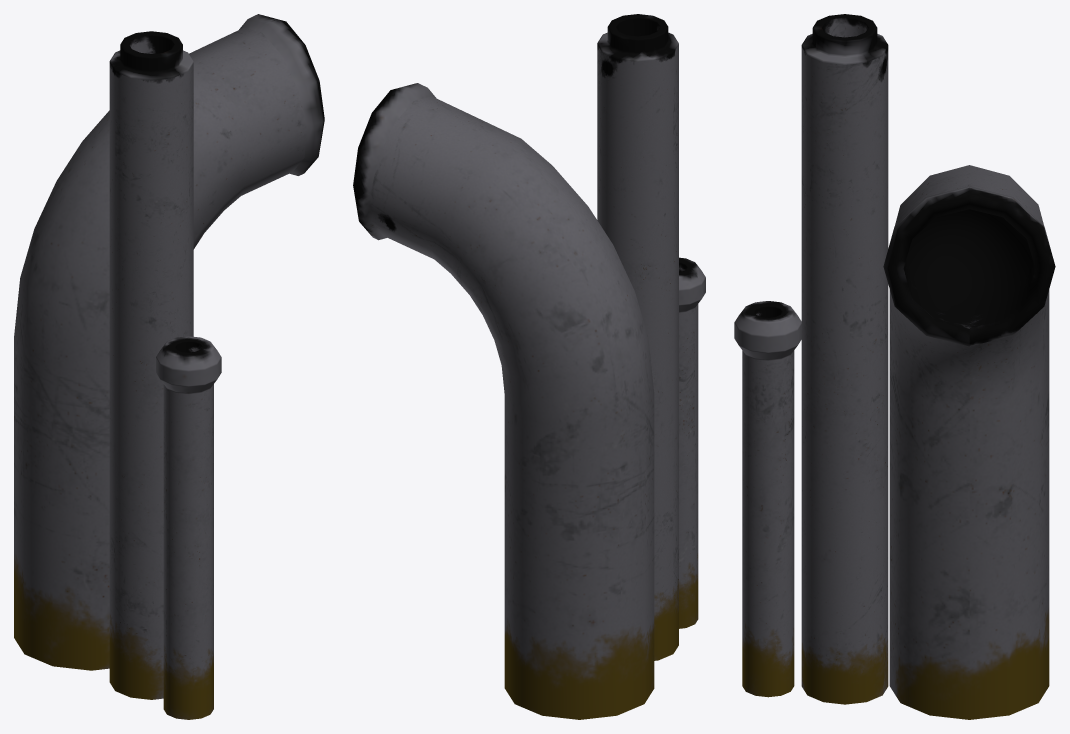
The model's file is Pipes_01.fbx.
3 renders of one model, left to right at view 1: azimuth 30°, elevation 25°; view 2: azimuth 150°, elevation 25°; view 3: azimuth 270°, elevation 25°, orthographic. The views are drawn at different scales.
Visible parts, largest first — view 1: polySurface1; view 2: polySurface1; view 3: polySurface1.
Part boxes in pixels (bbox=[...]): polySurface1: bbox=[14, 14, 324, 719]; polySurface1: bbox=[353, 14, 705, 719]; polySurface1: bbox=[734, 14, 1055, 719].
Size of the model in its own units: 1.06 by 2.47 by 1.09.
